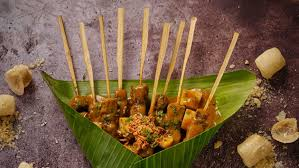sate: (50, 13, 244, 163)
